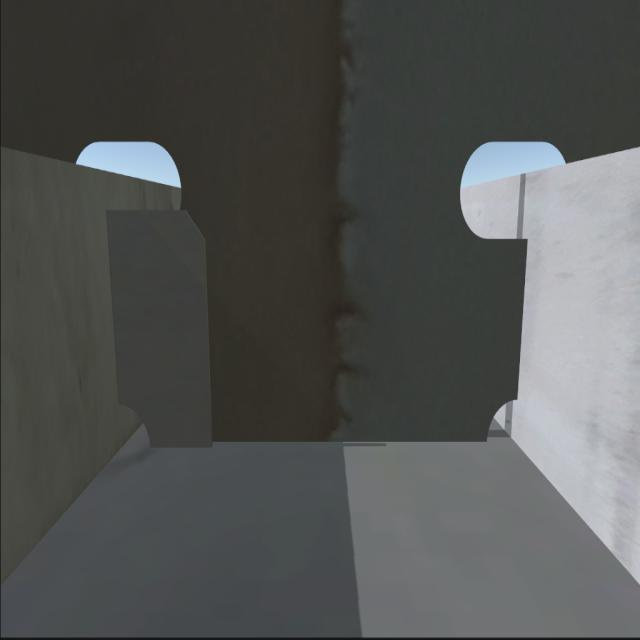fillet_hole: (117, 394, 150, 446), (484, 407, 519, 438)
fillet_yong_jeop_jang: (149, 439, 487, 448)
longi_yong_jeop_jang: (104, 220, 126, 389), (518, 243, 525, 398)
plate_CP03: (108, 204, 212, 440)
